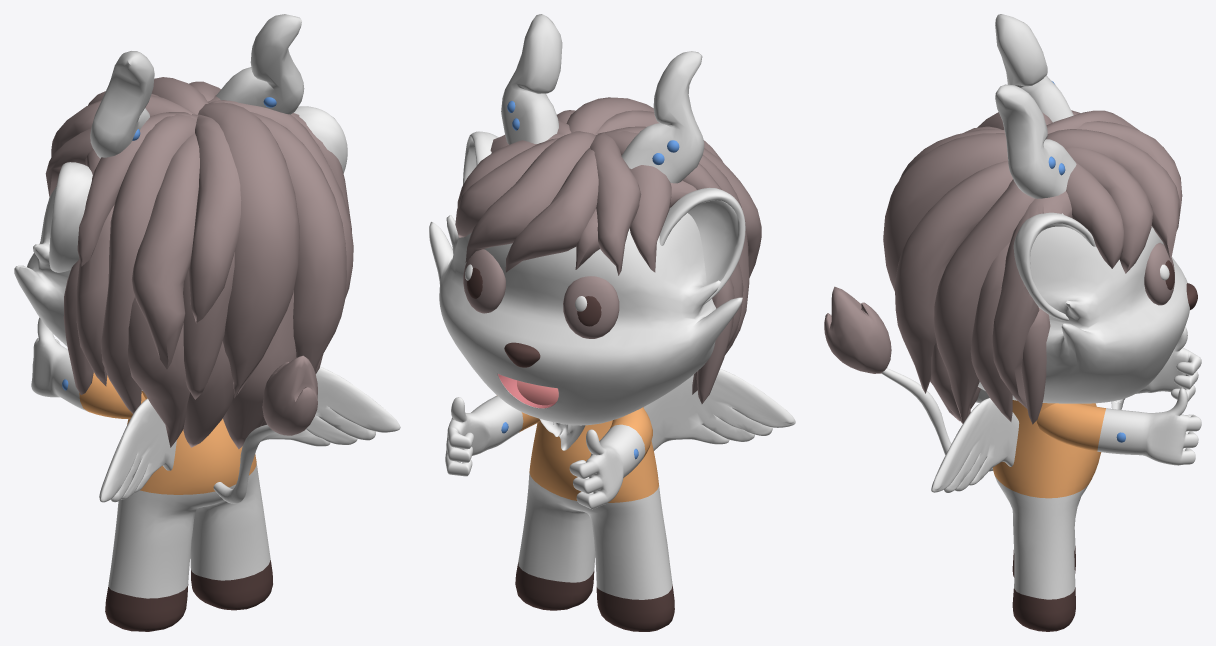
File: baize3new.gltf
3 renders of one model, left to right at view 1: azimuth 30°, elevation 25°; view 2: azimuth 150°, elevation 25°; view 3: azimuth 270°, elevation 25°, orthographic. The views are drawn at different scales.
Visible parts, largest first — view 1: 胡须.1-材质.1 (×2), 胡须.1-材质 (×3), 胡须.1-材质.4, 胡须.1-材质.6; view 2: 胡须.1-材质 (×3), 胡须.1-材质.1 (×3), 胡须.1-材质.4, 胡须.1-材质.6, 胡须.1-材质.3, 胡须.1-材质.5; view 3: 胡须.1-材质.1 (×2), 胡须.1-材质 (×3), 胡须.1-材质.4, 胡须.1-材质.6.
Boxes of the visible parts, x1,y1,x2,y2 form: 胡须.1-材质.1 (×2): (45,77,353,631); 胡须.1-材质 (×3): (14,106,400,598); 胡须.1-材质.4: (90,14,304,158); 胡须.1-材质.6: (79,372,256,494); 胡须.1-材质 (×3): (429,131,795,599); 胡须.1-材质.1 (×3): (455,97,761,631); 胡须.1-材质.4: (501,14,704,183); 胡须.1-材质.6: (496,395,658,502); 胡须.1-材质.3: (517,380,558,405); 胡须.1-材质.5: (501,100,679,459); 胡须.1-材质.1 (×2): (824,110,1182,631); 胡须.1-材质 (×3): (881,212,1201,599); 胡须.1-材质.4: (995,14,1076,198); 胡须.1-材质.6: (993,400,1105,498).
Size of the model in its own units: 850 by 1467 by 910.
